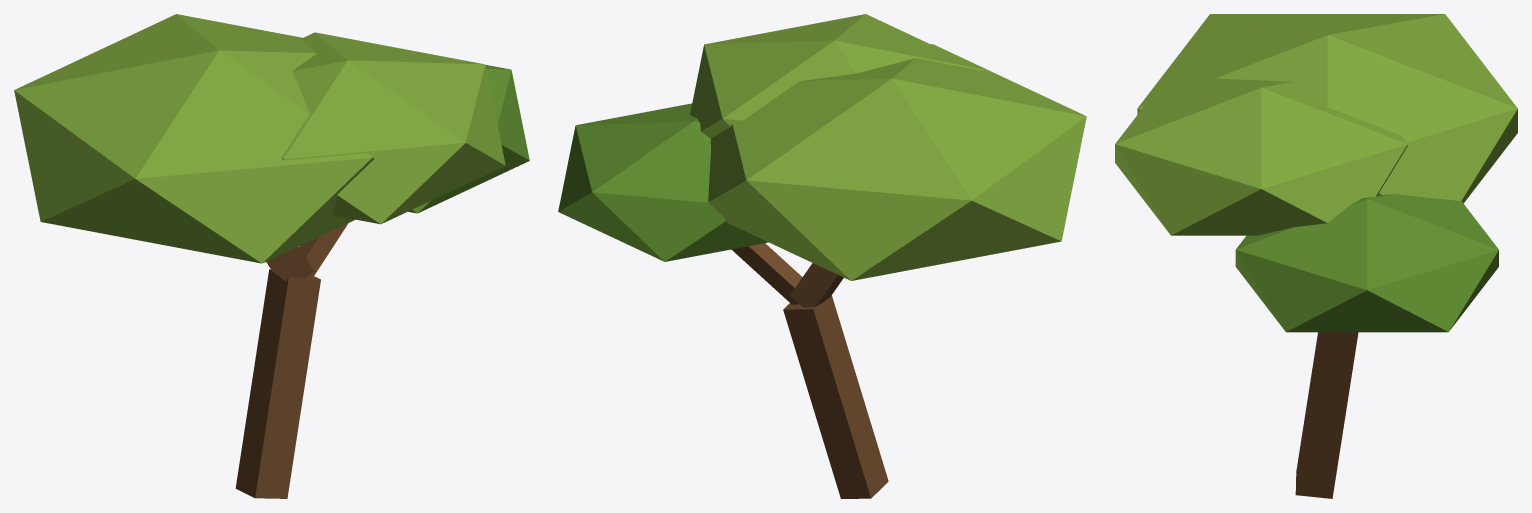
File: cerrado_tree.glb
The picture shows the model from 3 angles, left to right: view 1: azimuth 30°, elevation 25°; view 2: azimuth 150°, elevation 25°; view 3: azimuth 270°, elevation 25°; orthographic projection. The views are drawn at different scales.
Visible parts, largest first — view 1: CerradoTree; view 2: CerradoTree; view 3: CerradoTree.
Boxes of the visible parts, <box> form: CerradoTree: <box>14,14,529,498</box>; CerradoTree: <box>558,14,1086,498</box>; CerradoTree: <box>1115,14,1517,498</box>.
Size of the model in its own units: 4.16 by 3.67 by 3.04.
